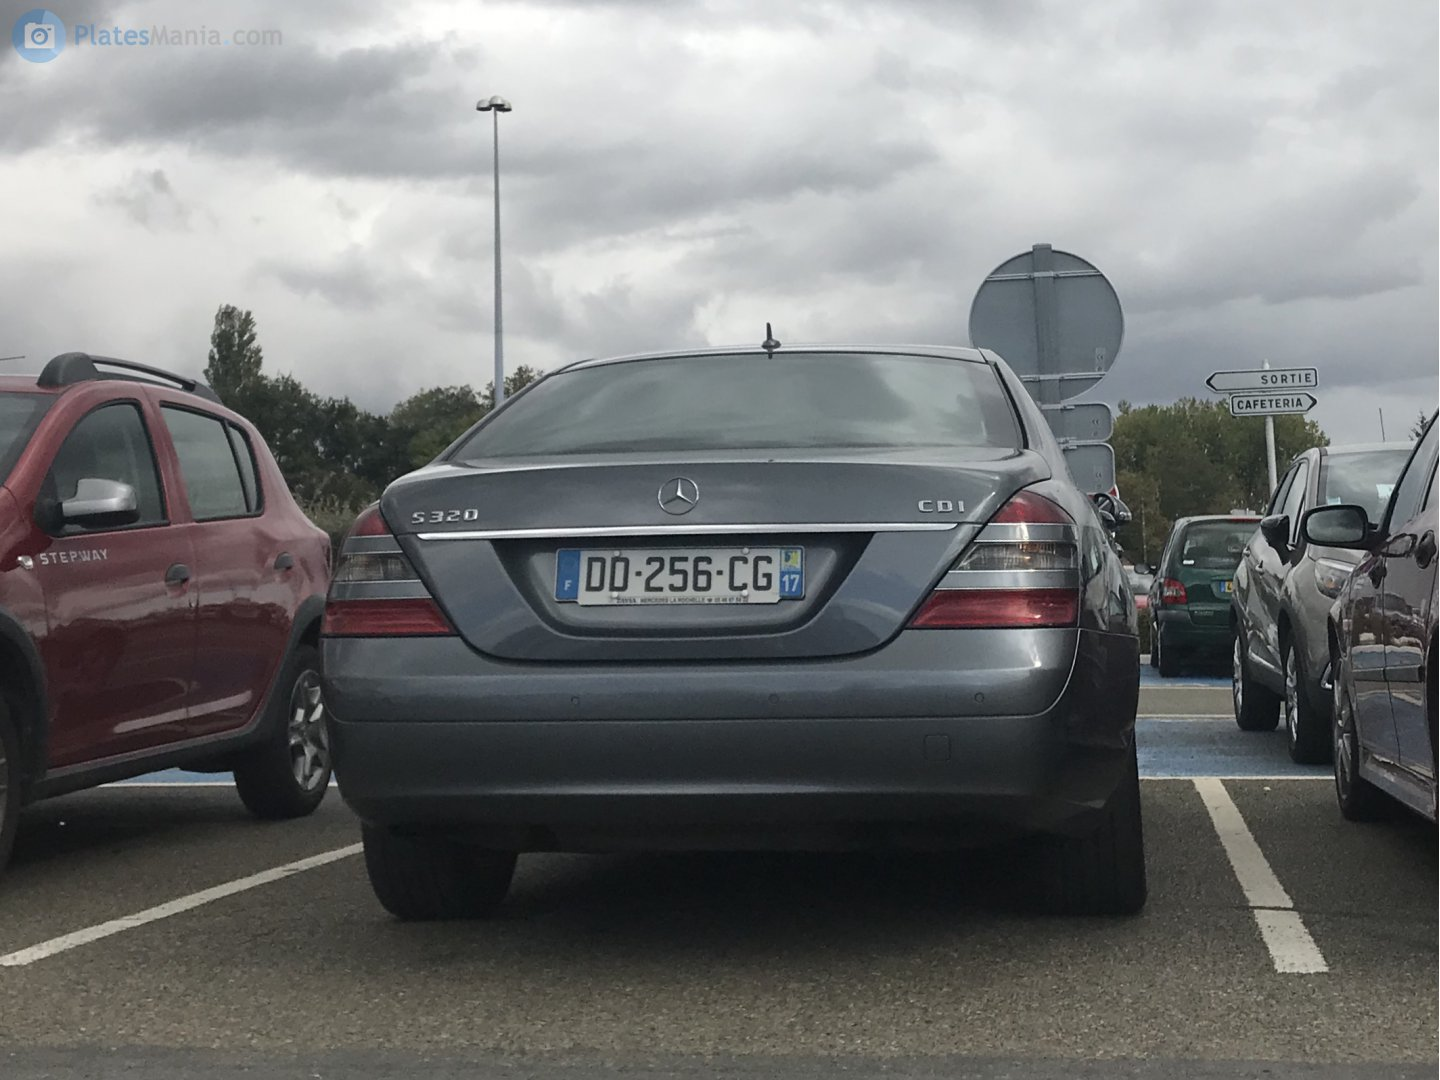licence plate: (548, 539, 810, 608)
